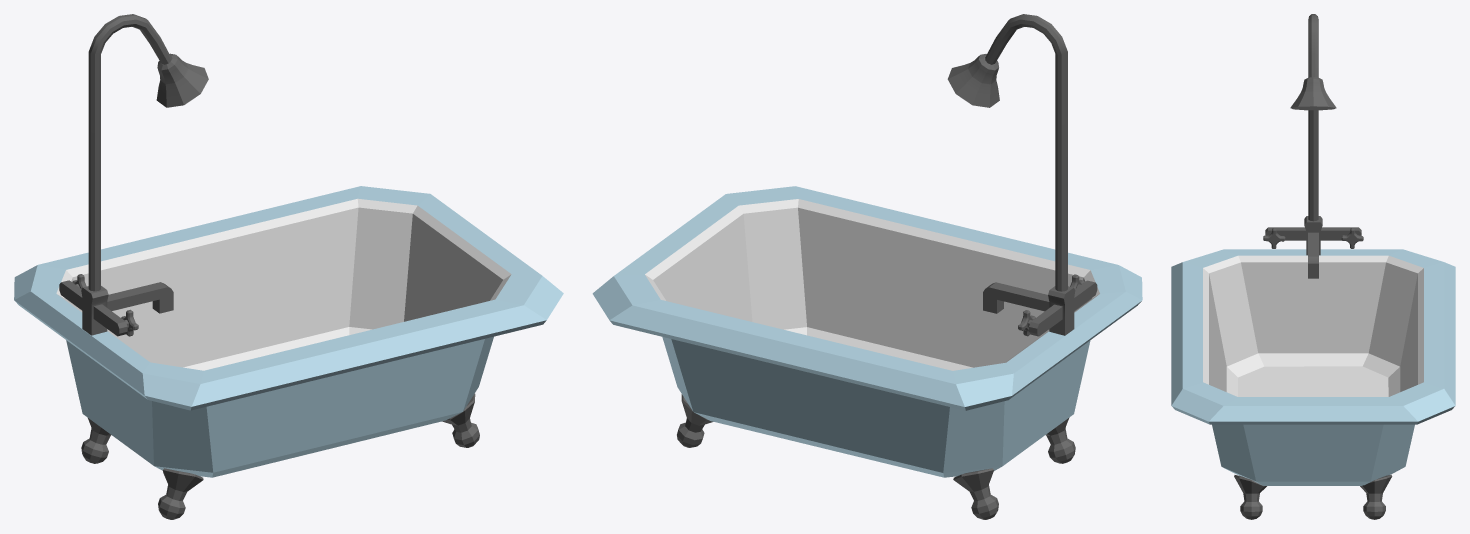
The model's file is Bath_Tub.fbx.
3 renders of one model, left to right at view 1: azimuth 30°, elevation 25°; view 2: azimuth 150°, elevation 25°; view 3: azimuth 270°, elevation 25°, orthographic. The views are drawn at different scales.
Visible parts, largest first — view 1: Tub, Tap; view 2: Tub, Tap; view 3: Tub, Tap.
Part boxes in pixels (left/top/right/bottom): Tub: left=14, top=186, right=563, bottom=519; Tap: left=59, top=14, right=208, bottom=336; Tub: left=592, top=186, right=1142, bottom=519; Tap: left=947, top=14, right=1097, bottom=336; Tub: left=1171, top=249, right=1455, bottom=519; Tap: left=1263, top=14, right=1363, bottom=278.
Bounding box in the file's own units: 5.31 × 5.77 × 3.88.
